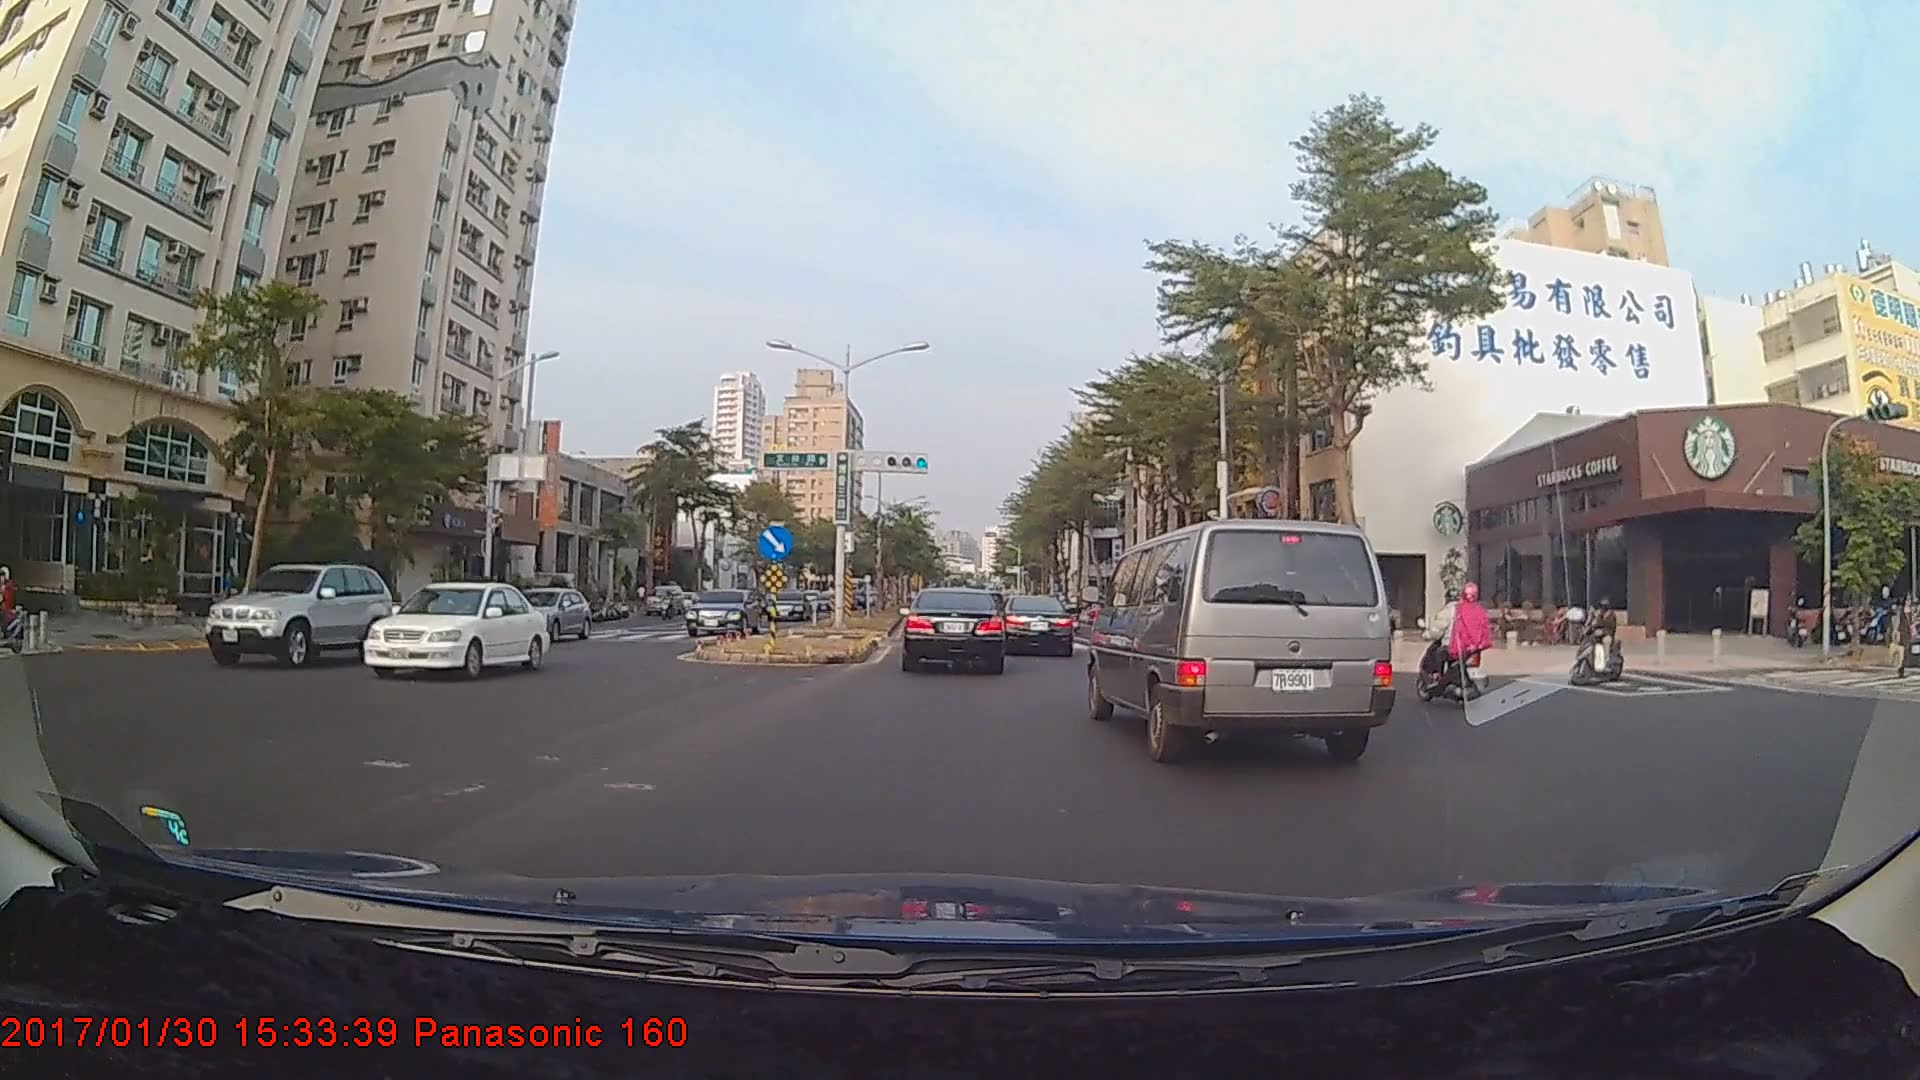pedestrian: (1893, 596, 1920, 685)
rider: (1416, 567, 1499, 697), (1571, 588, 1638, 682), (1, 569, 29, 659)
vehicle: (1092, 511, 1390, 763), (203, 560, 399, 667), (361, 578, 553, 677), (901, 587, 1006, 673), (490, 585, 591, 642), (999, 593, 1075, 656), (683, 585, 760, 634), (763, 588, 812, 620)
